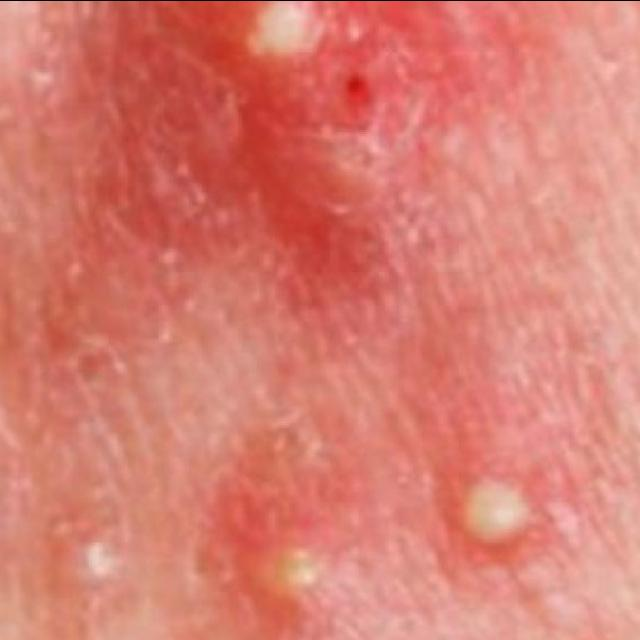pustule: (194, 443, 565, 640), (224, 0, 385, 117), (29, 501, 132, 617)
